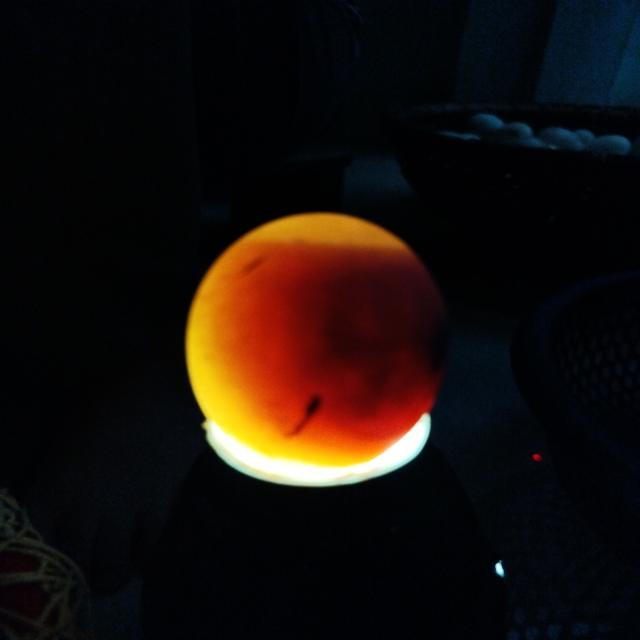Area Infectada: (295, 265, 455, 435)
